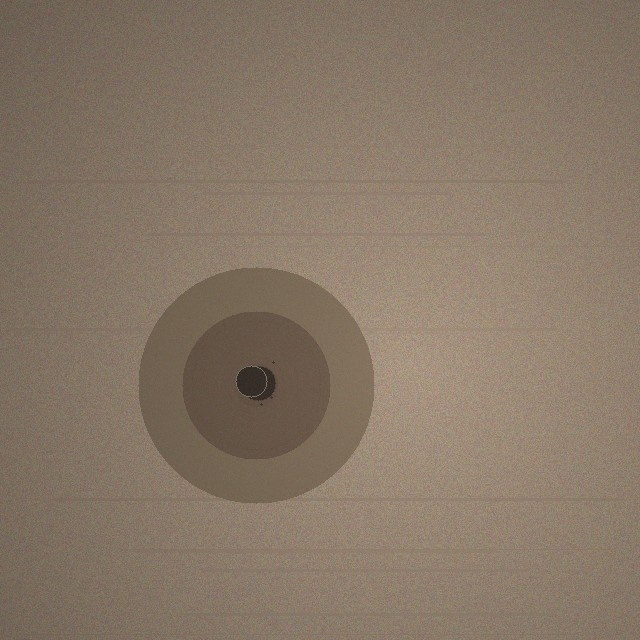shrinkage: (138, 267, 374, 503)
